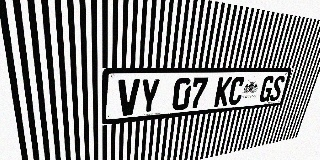0: (171, 78, 192, 111)
7: (188, 77, 208, 109)
C: (227, 76, 246, 106)
G: (258, 76, 275, 102)
K: (213, 77, 233, 107)
S: (269, 76, 286, 101)
V: (117, 79, 140, 116)
Y: (139, 78, 161, 114)
